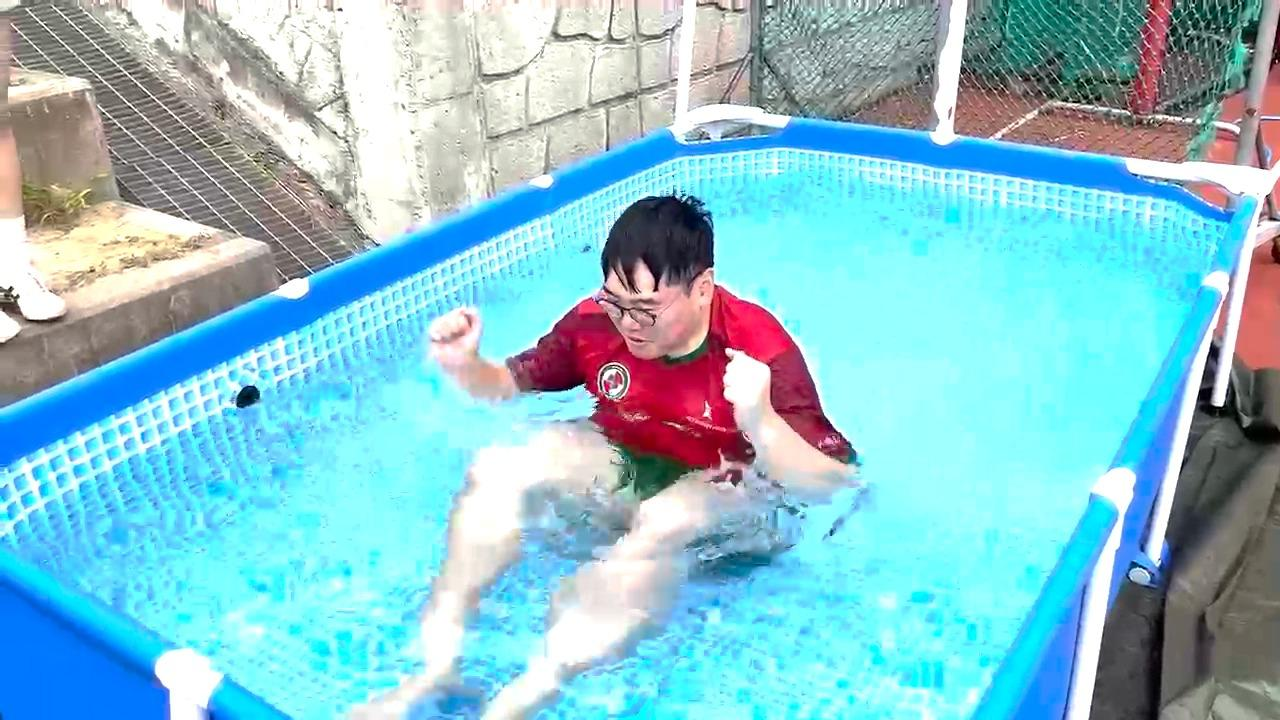Swimming: (322, 156, 913, 704)
